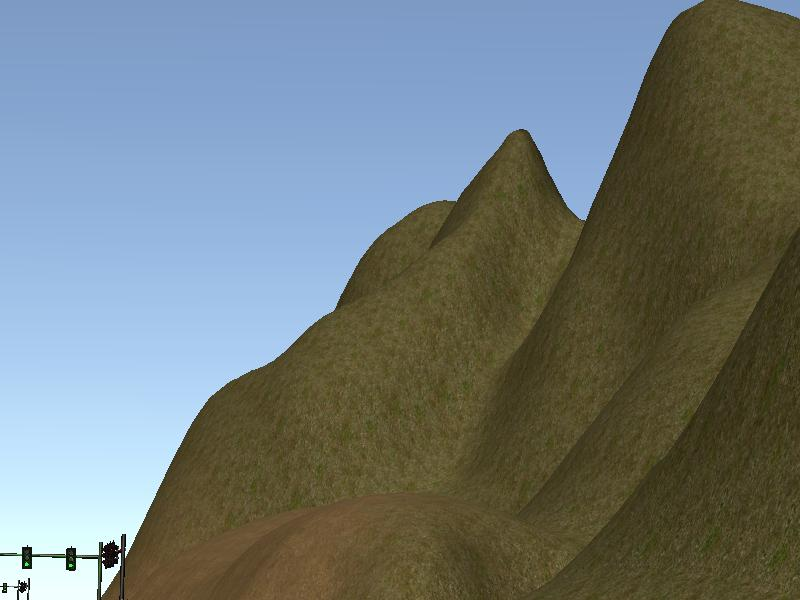Green: (66, 548, 76, 570), (22, 547, 31, 568)
